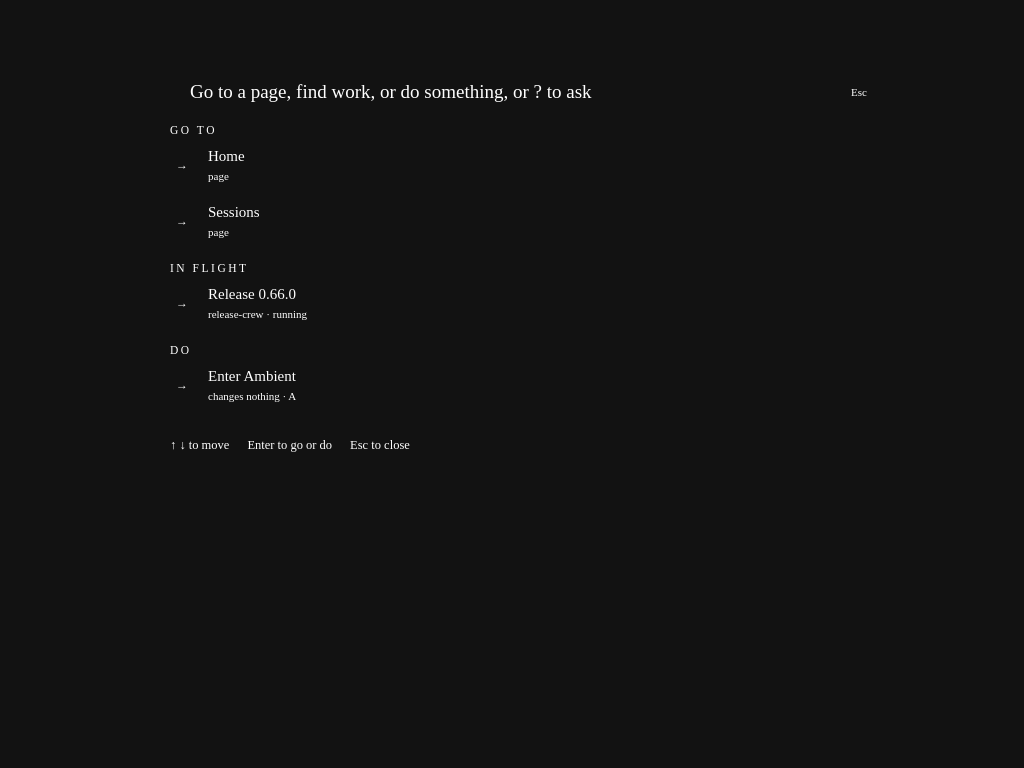
Test case: CommandPalette › says so when nothing matches
The width and height of the screenshot is (1024, 768).
Type "zzz" into the dropdown at (510, 92), box [188,80,832,104]
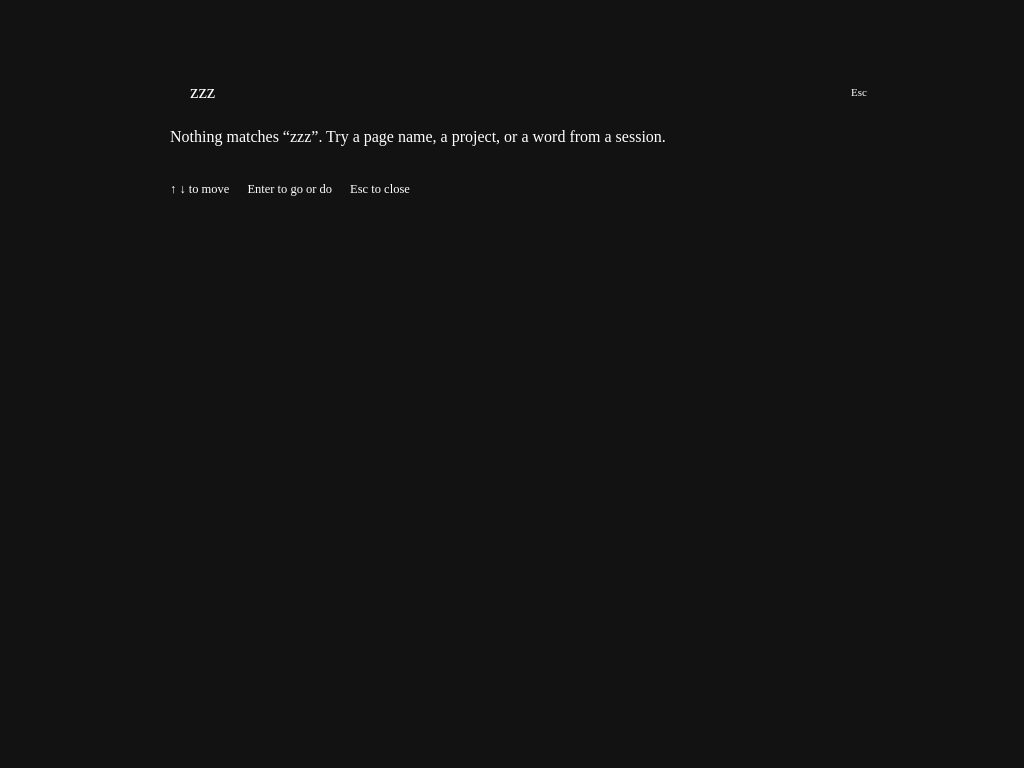
Now the text "Nothing matches" is shown, box [170,128,666,145]
